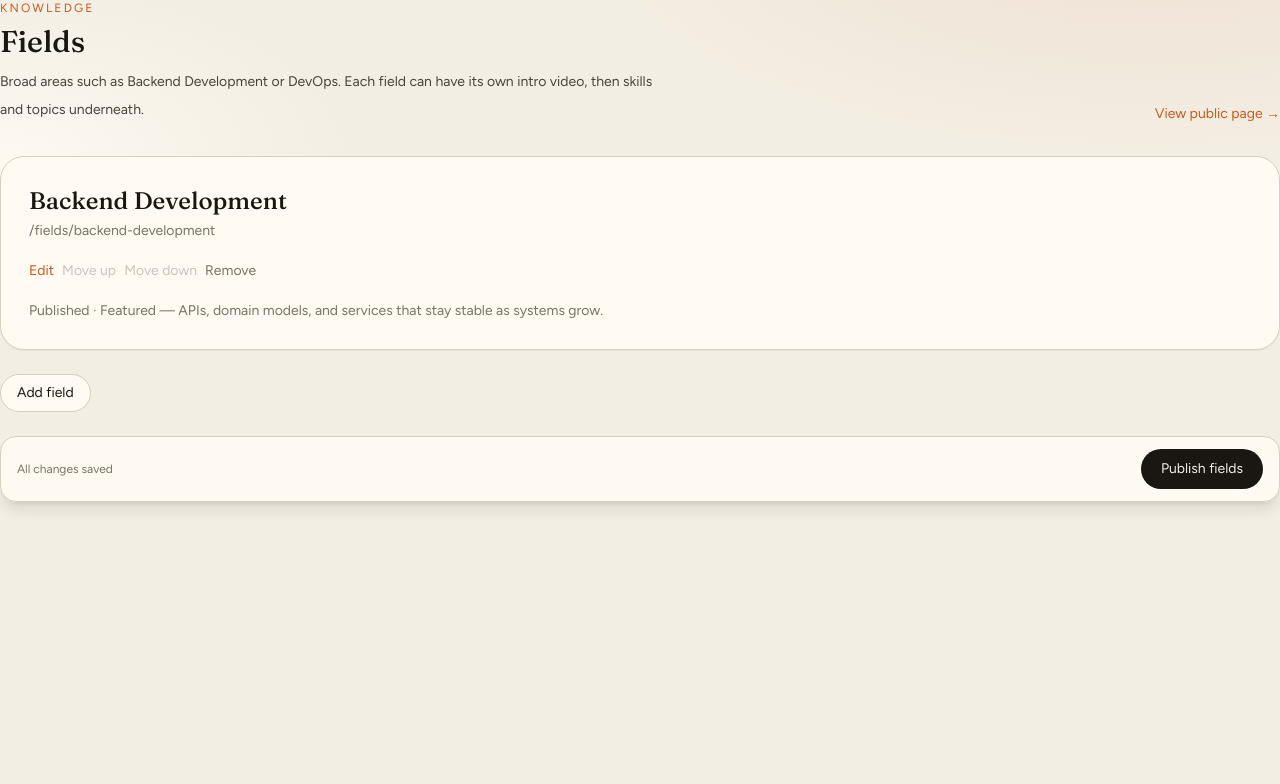
AdminFieldsPage › blocks publish when a name is missing
The width and height of the screenshot is (1280, 784).
Click the button "Edit": click(42, 271) left=29, top=261, right=54, bottom=281
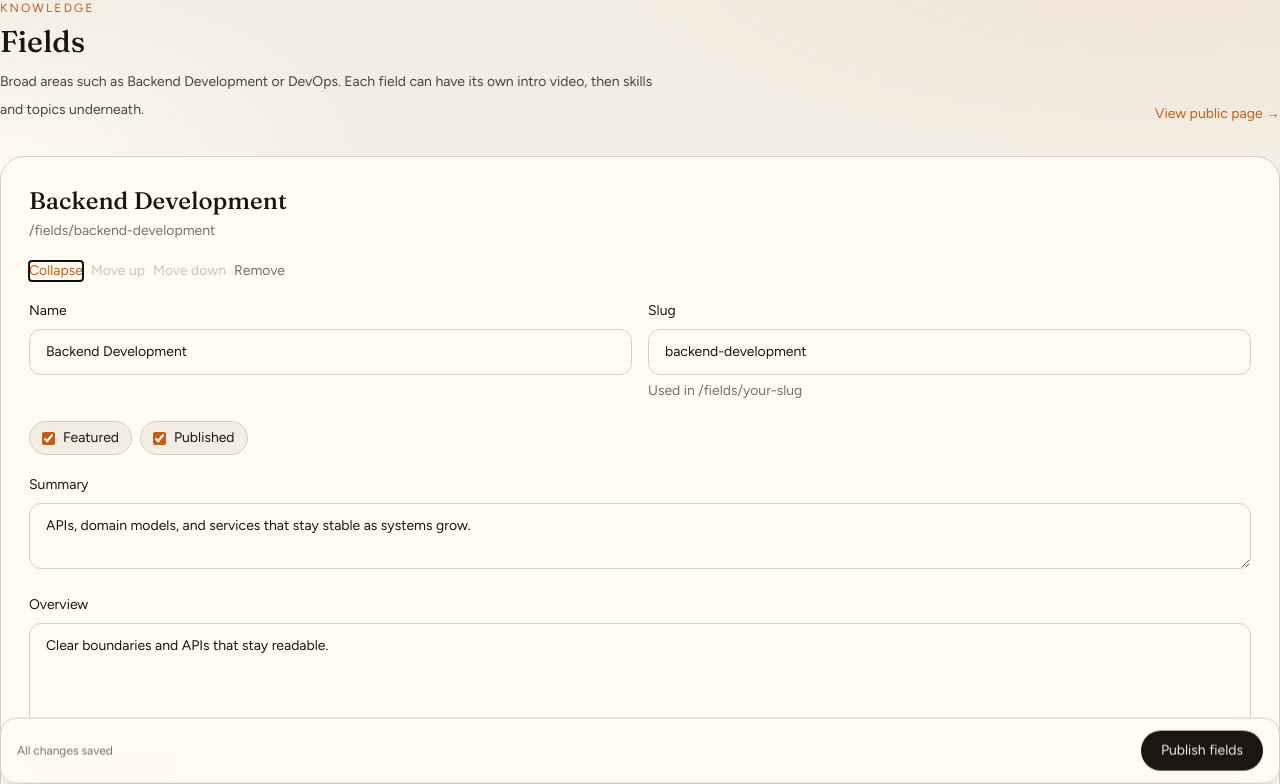
Expected: the field labelled "Name" is shown
Clear the field labelled "Name": (330, 352) left=29, top=329, right=632, bottom=375
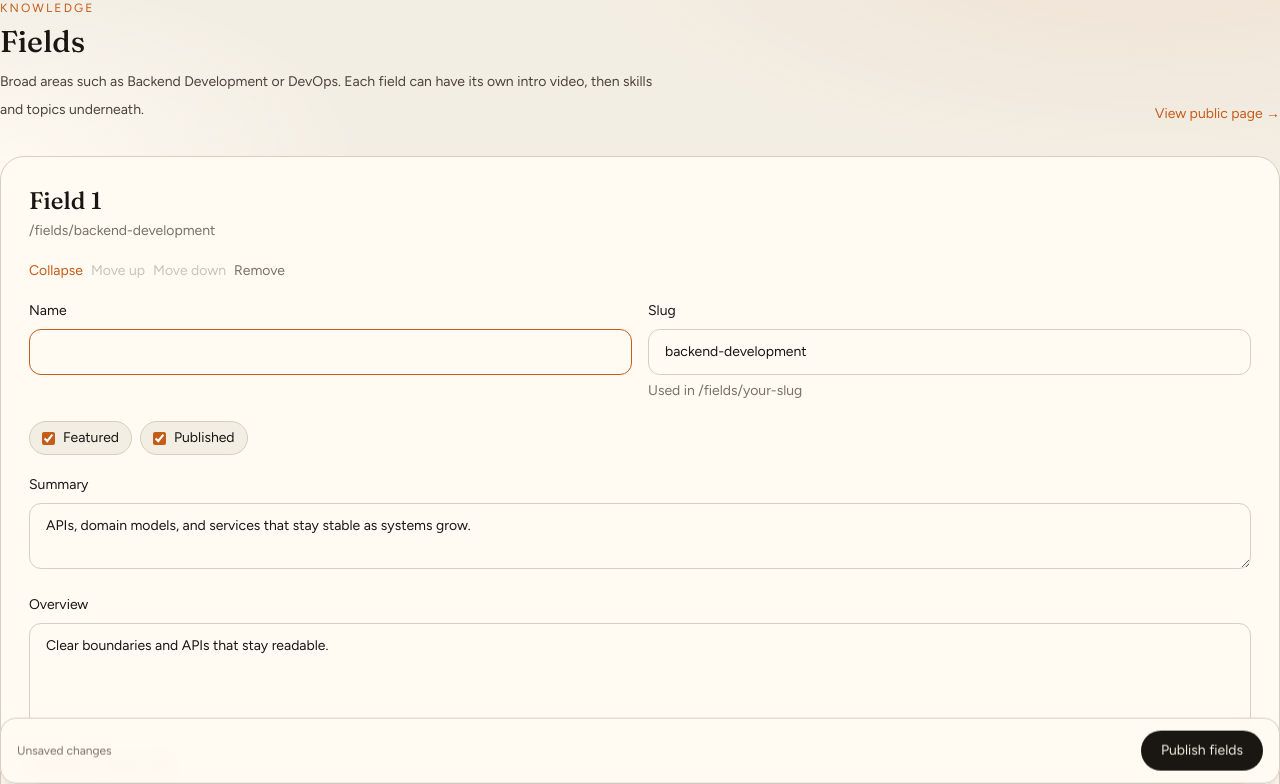
Click the button "Publish fields": click(1202, 751) left=1141, top=731, right=1263, bottom=771
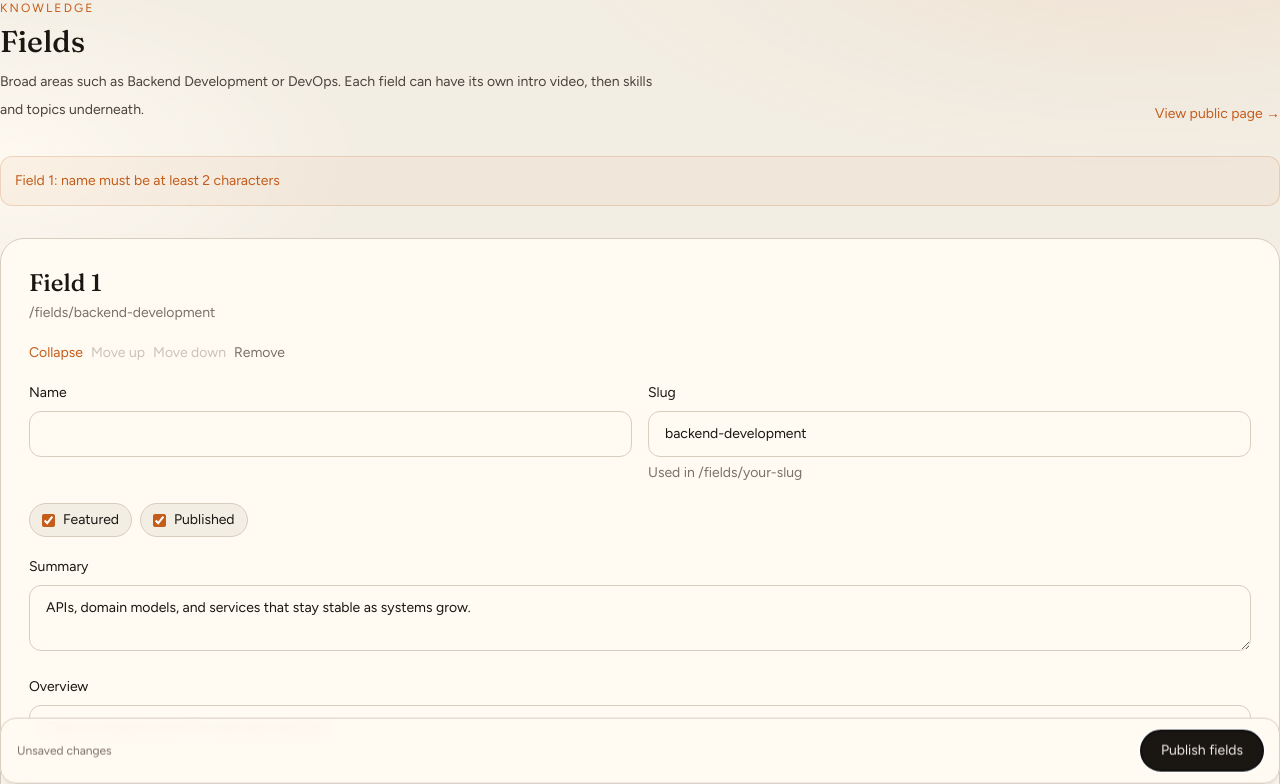
Expected: the message shows "name must be at least 2 characters", left=15, top=172, right=280, bottom=189
